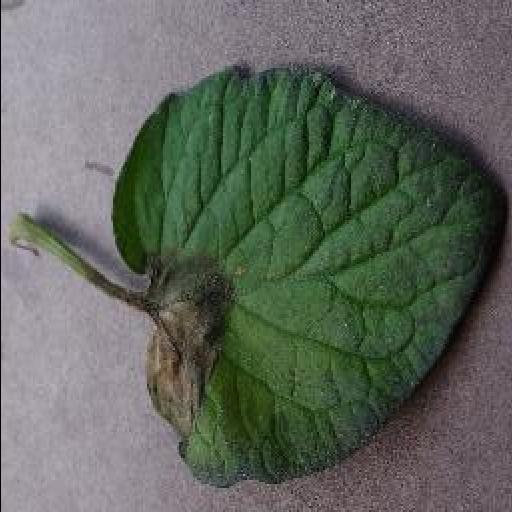disease_tomato: (108, 62, 506, 492)
